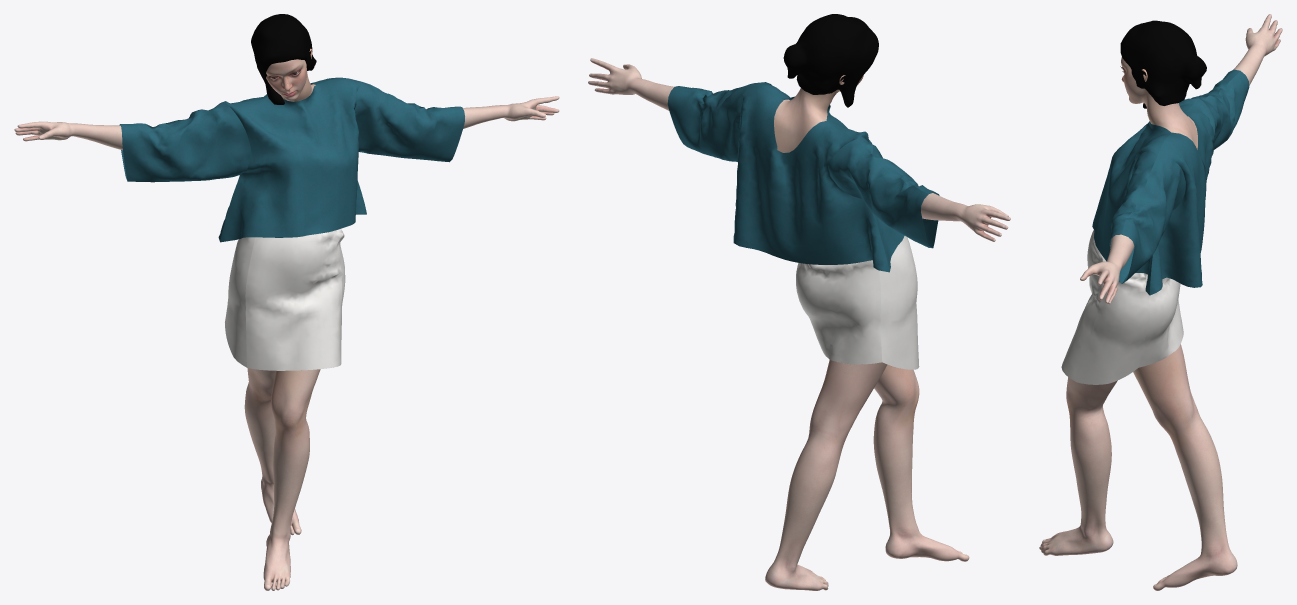
Rendered from Custom_View_8__Dynamic_2.obj.
3 views of the same model, side by side, from view 1: azimuth 30°, elevation 25°; view 2: azimuth 150°, elevation 25°; view 3: azimuth 270°, elevation 25° (orthographic). The views are drawn at different scales.
Size of the model in its own units: 1601 by 1717 by 679.
